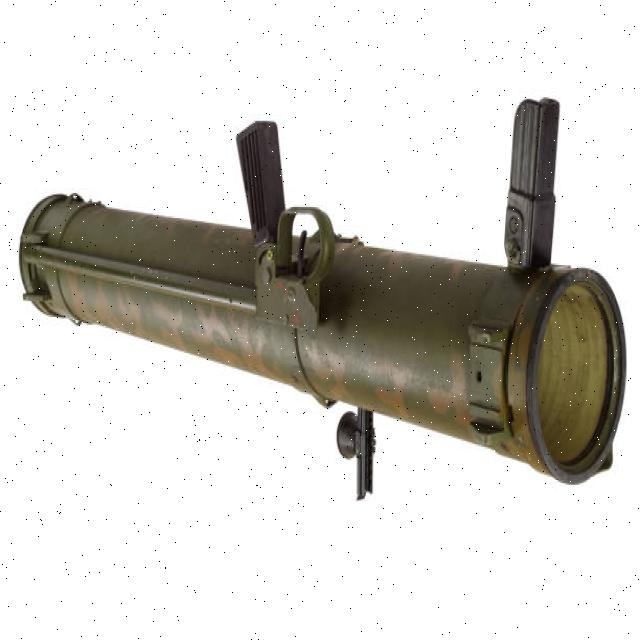bazooka: (5, 93, 635, 504)
